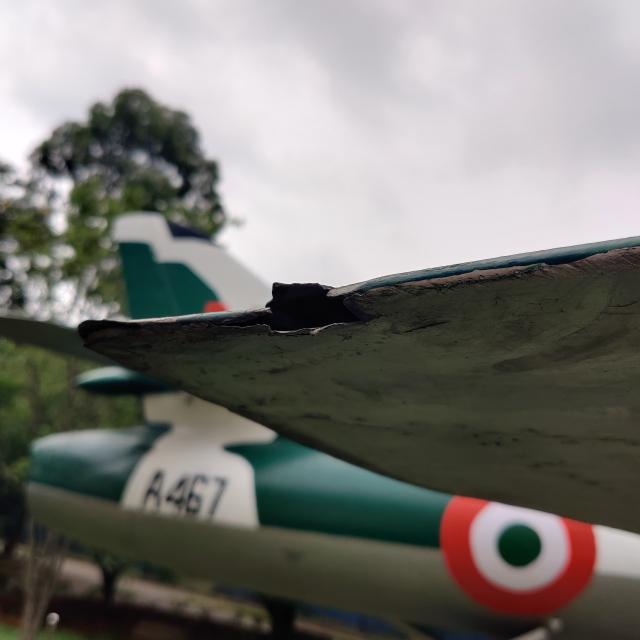crack: (222, 275, 397, 350)
